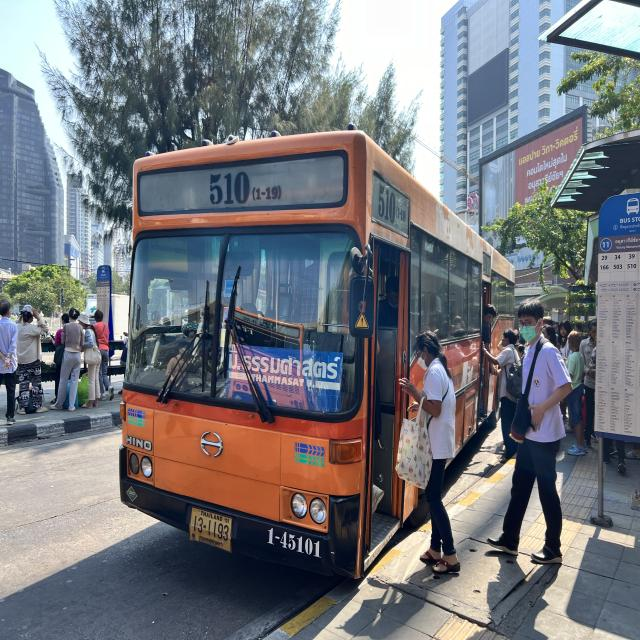BMTA-bus: (118, 129, 513, 582)
Bus-Line-Number: (206, 164, 287, 209)
Destination-Sign-Normal: (230, 341, 344, 415)
